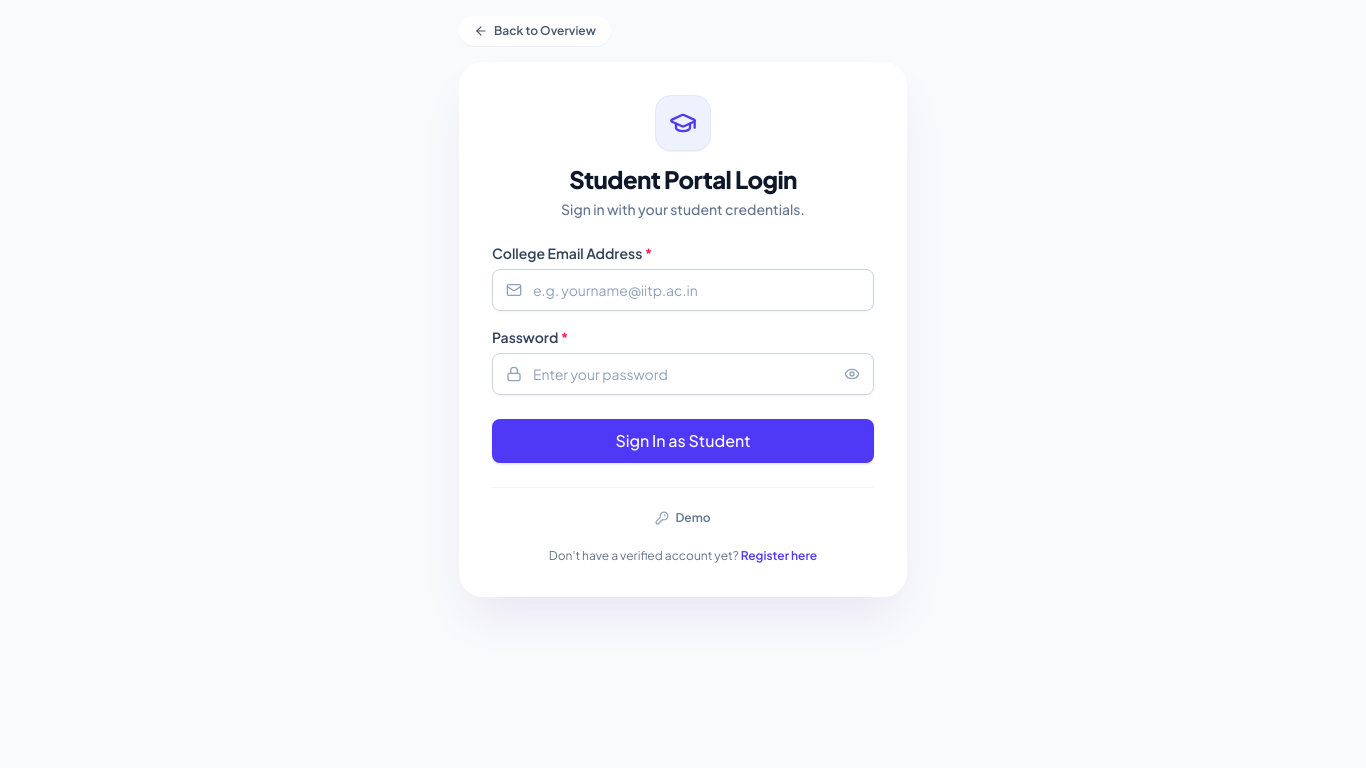
Test: StudentLoginPage › unlocks and auto-fills demo student credentials with password protection and hide option
expect the text "Quick Demo Student Credentials" is not shown: met
expect the button "Auto-fill Demo Student Credentials" is not shown: met
Note: Click Demo button
Click the button "Demo" at (683, 518), box [643,504,722,532]
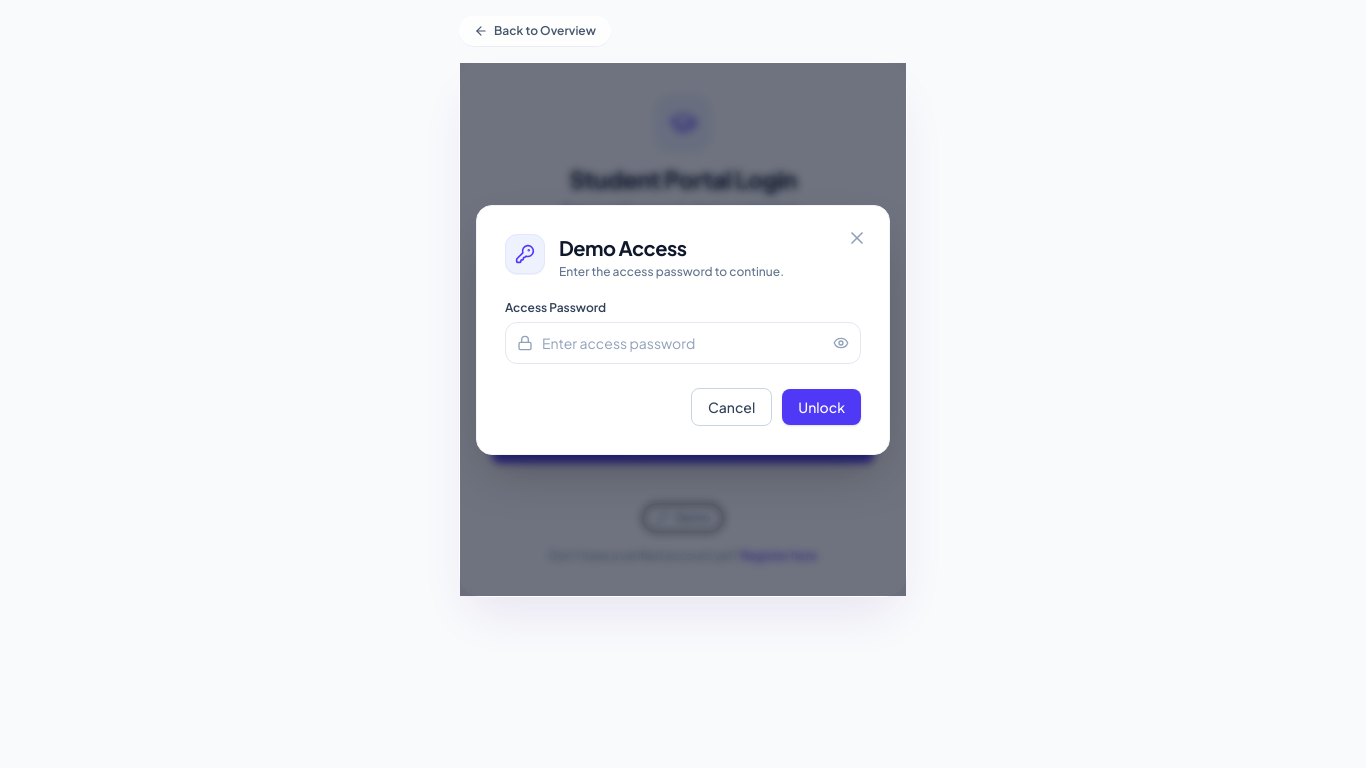
expect the heading "Demo Access" is shown: met, box [559,234,687,260]
Note: Enter correct password
Type "280723" into the password field with placeholder "Enter access password" at (683, 342), box [505,322,861,364]
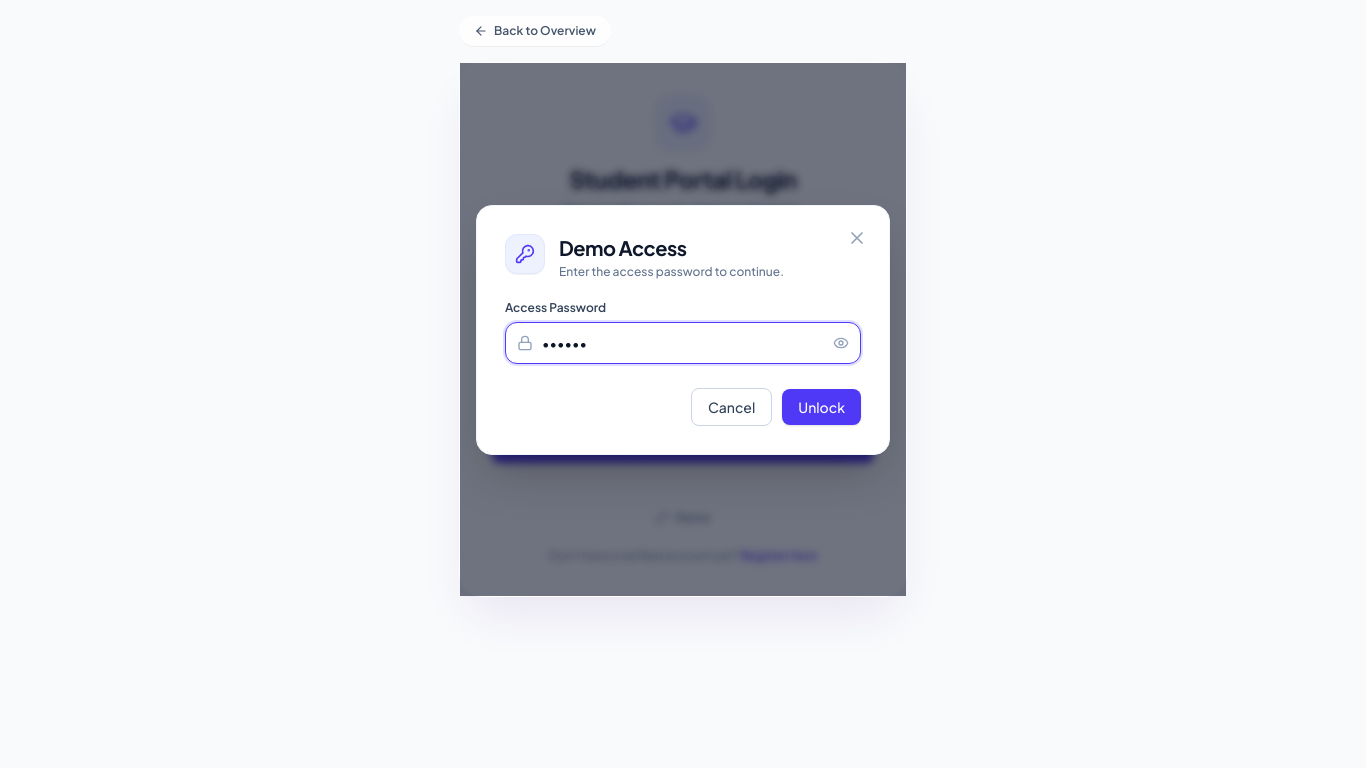
Click the button "Unlock" at (822, 406), box [782,388,861,424]
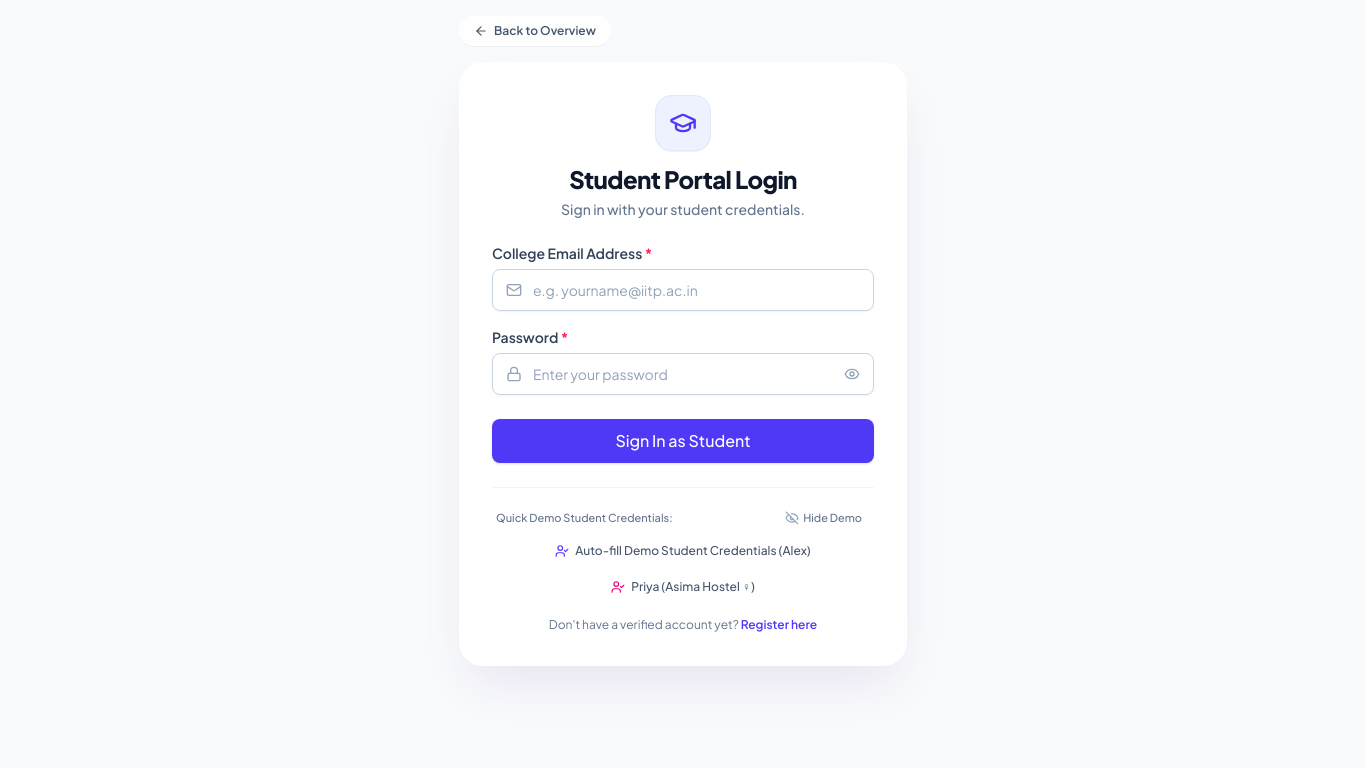
expect the heading "Demo Access" is gone: met
expect the text "Quick Demo Student Credentials:" is shown: met, box [496,510,673,526]
Click the button "Auto-fill Demo Student Credentials (Alex)" at (683, 550), box [543,536,823,564]
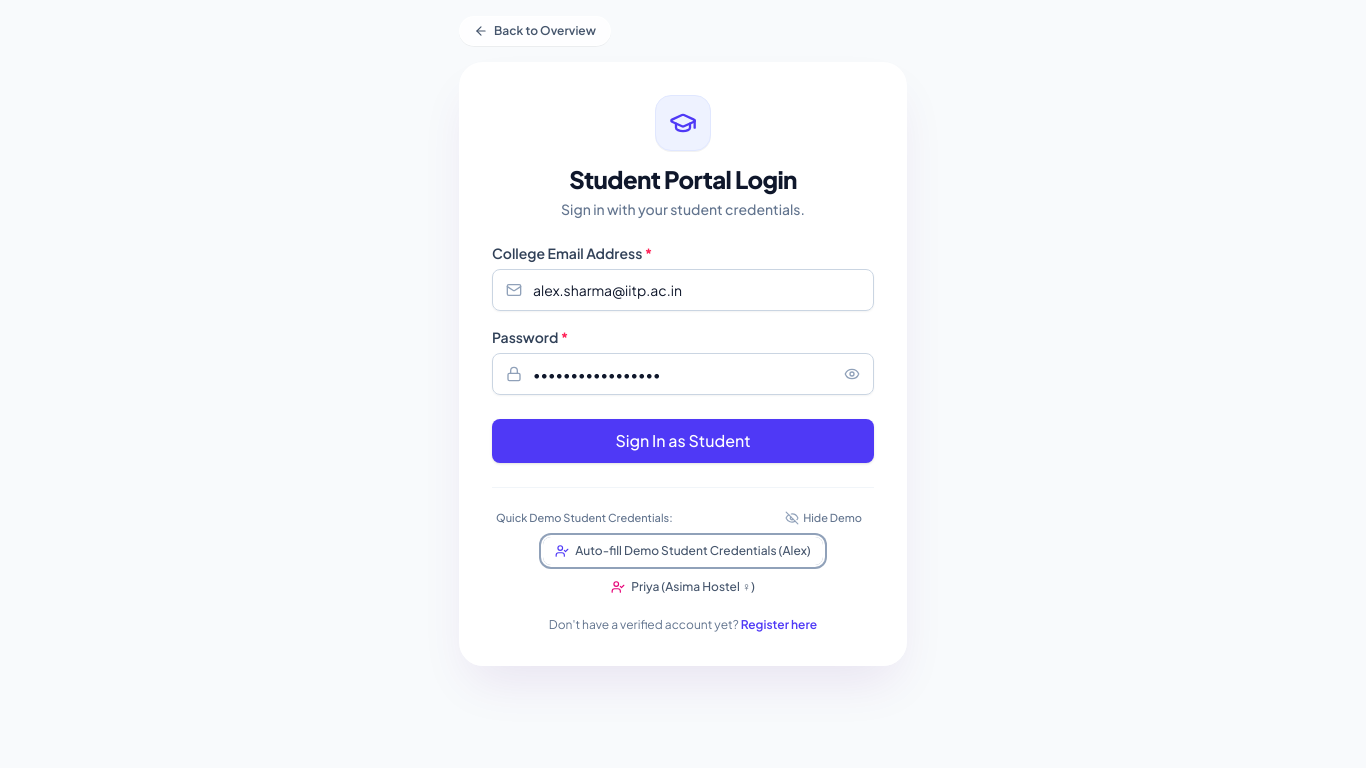
expect the field labelled "College Email Address *" holds "alex.sharma@iitp.ac.in": met, box [492,269,874,311]
expect the password field labelled "Password *" holds "mock-student-pass": met, box [492,353,874,395]
Note: Test Hide Demo button
Click the button "Hide Demo" at (824, 518), box [777,508,870,528]
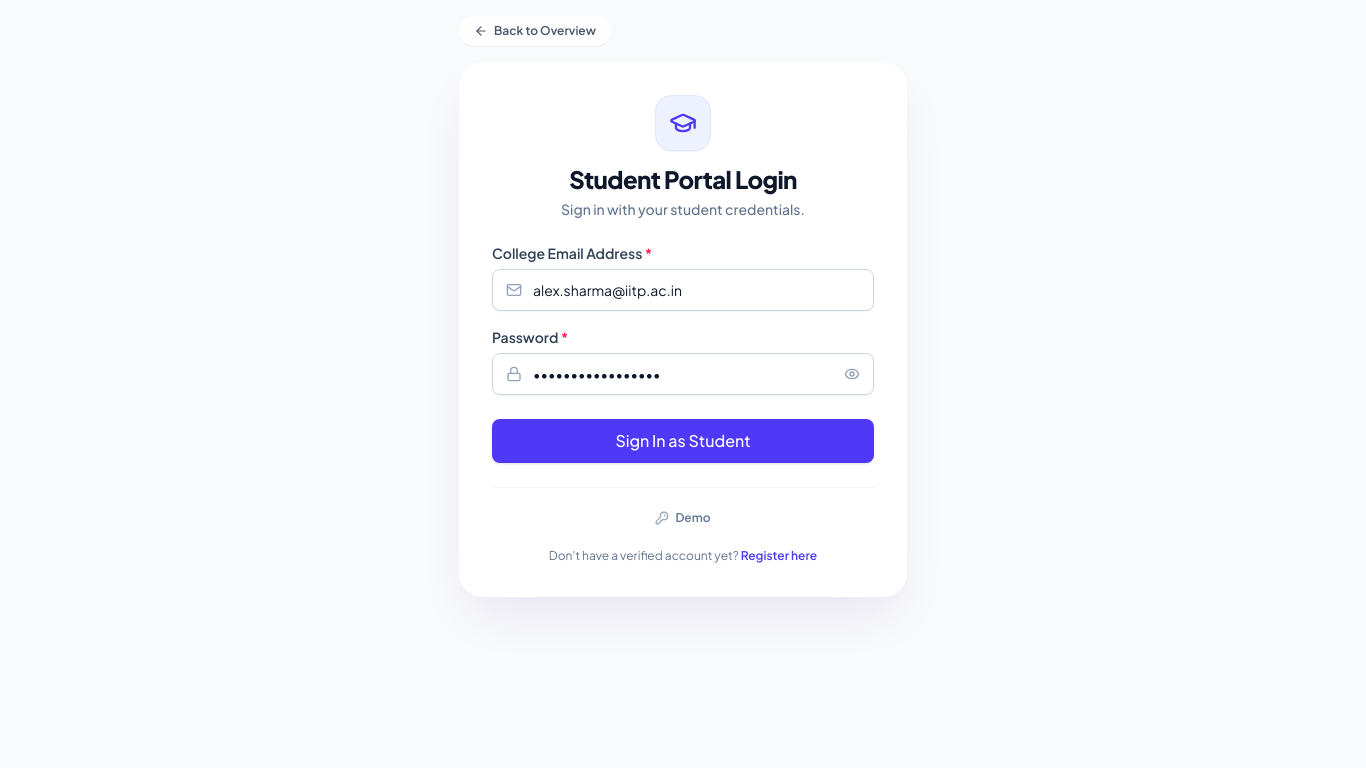
expect the button "Demo" is shown: met, box [643,504,722,532]
expect the text "Quick Demo Student Credentials:" is gone: met
